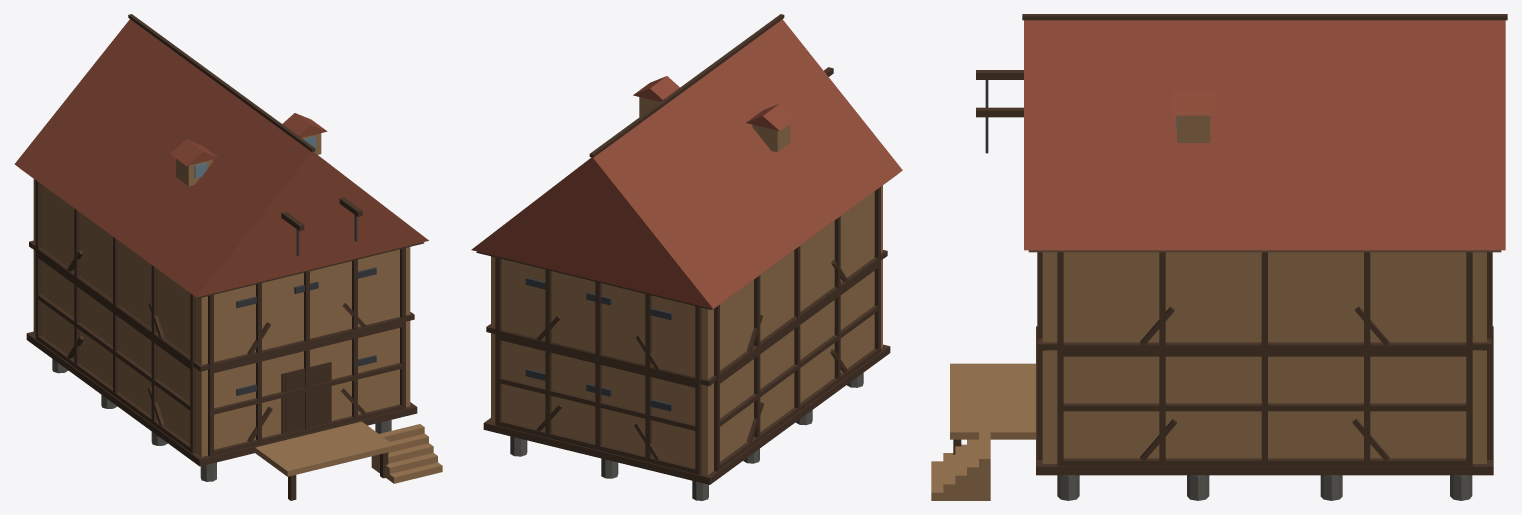
File: granary_large.glb
3 views of the same model, side by side, from view 1: azimuth 30°, elevation 25°; view 2: azimuth 150°, elevation 25°; view 3: azimuth 270°, elevation 25° (orthographic). The views are drawn at different scales.
Visible parts, largest first — view 1: granary_large_lod0; view 2: granary_large_lod0; view 3: granary_large_lod0.
Boxes of the visible parts, <box> form: granary_large_lod0: <box>14,14,442,500</box>; granary_large_lod0: <box>471,14,902,500</box>; granary_large_lod0: <box>931,14,1507,500</box>.
Size of what is drawn, in the model's own units: 9.6 by 12.65 by 15.55.
